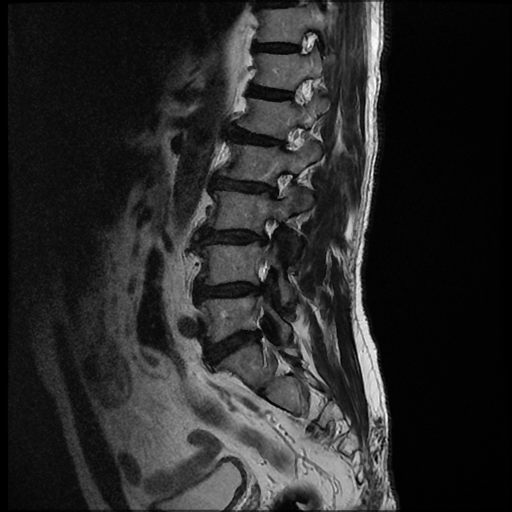LFS0: (267, 117, 319, 161), (256, 164, 307, 208)
